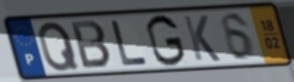6: (219, 12, 258, 62)
B: (68, 19, 115, 70)
G: (144, 13, 187, 69)
K: (181, 14, 223, 64)
L: (109, 19, 151, 68)
Q: (37, 20, 82, 74)
